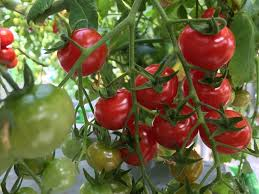tomato: (176, 20, 236, 70), (57, 29, 109, 76), (200, 108, 252, 154), (179, 67, 231, 111), (154, 106, 200, 152), (92, 88, 139, 131), (132, 64, 178, 107), (118, 122, 157, 164)
